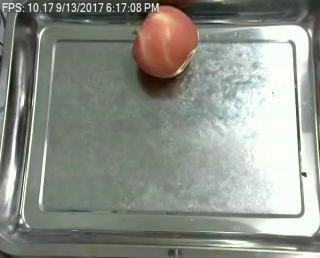apple: (131, 11, 199, 78)
